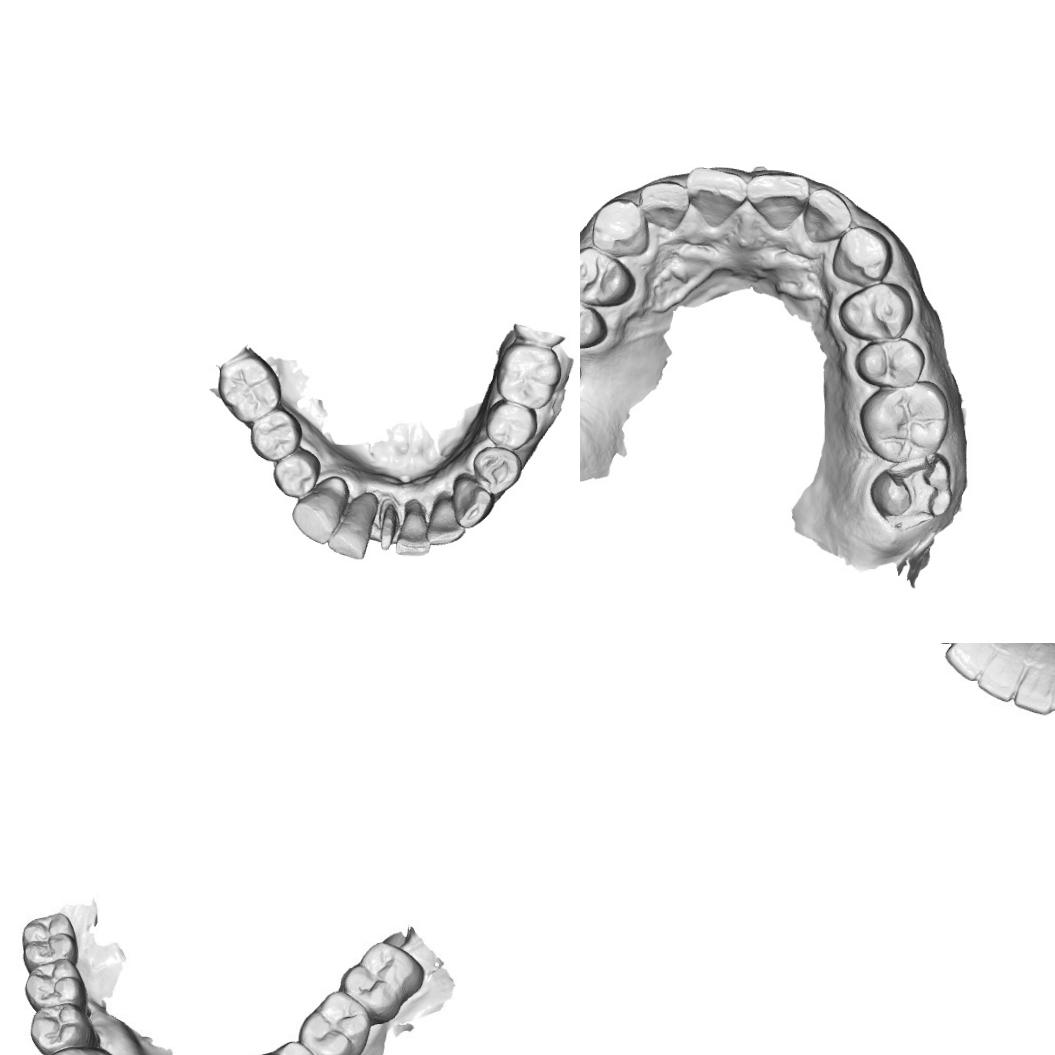canine: (829, 223, 892, 289), (588, 196, 649, 260), (288, 482, 346, 546), (449, 472, 494, 531), (43, 1044, 117, 1055)
crown: (374, 498, 396, 550)
incisor: (682, 164, 750, 230), (325, 489, 377, 562), (747, 169, 808, 231), (800, 185, 856, 246), (1013, 645, 1055, 717), (634, 179, 688, 231), (973, 643, 1020, 700), (392, 498, 434, 560), (424, 494, 468, 548), (945, 643, 996, 681)
inlay: (881, 456, 943, 530)
molar: (858, 377, 952, 465), (335, 939, 427, 1026), (214, 349, 284, 429), (492, 340, 563, 412), (296, 990, 372, 1055), (18, 909, 81, 974)
premolar: (836, 278, 916, 343), (853, 334, 927, 391), (580, 244, 637, 309), (27, 1002, 96, 1055), (24, 960, 92, 1011), (481, 397, 539, 452), (469, 443, 525, 498), (248, 407, 302, 464), (270, 447, 324, 502), (580, 294, 608, 351), (259, 1038, 328, 1055)
